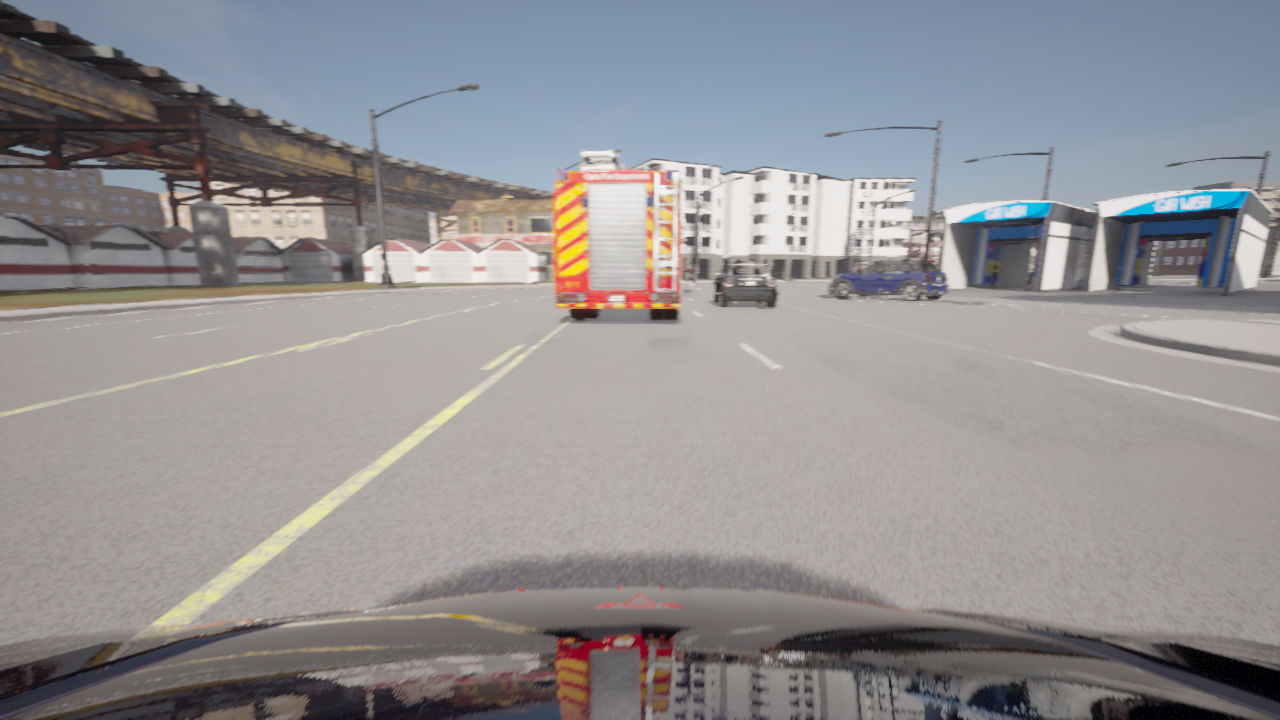cyclist: (0, 588, 1279, 719), (554, 150, 684, 318), (829, 259, 948, 301), (714, 263, 777, 307), (688, 280, 694, 292)
pedestrian: (990, 259, 1001, 288)
